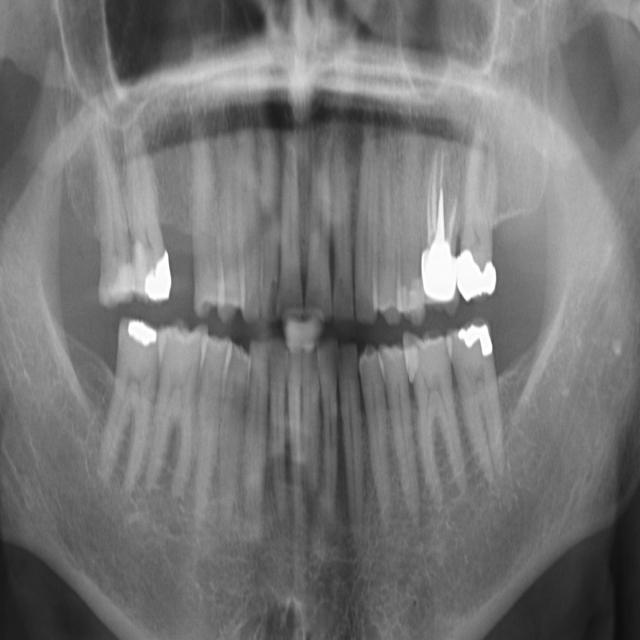dolgu: (450, 320, 502, 378), (137, 242, 177, 307), (122, 313, 158, 351)
kanal-tedavisi: (413, 146, 460, 253)
kaplama: (420, 240, 458, 298), (456, 258, 497, 302)
